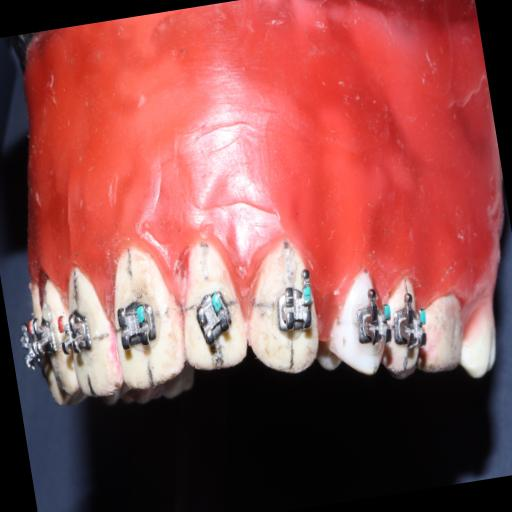correct_brace: (170, 234, 251, 380)
incorrect_brace: (268, 280, 318, 336), (194, 292, 234, 342)
